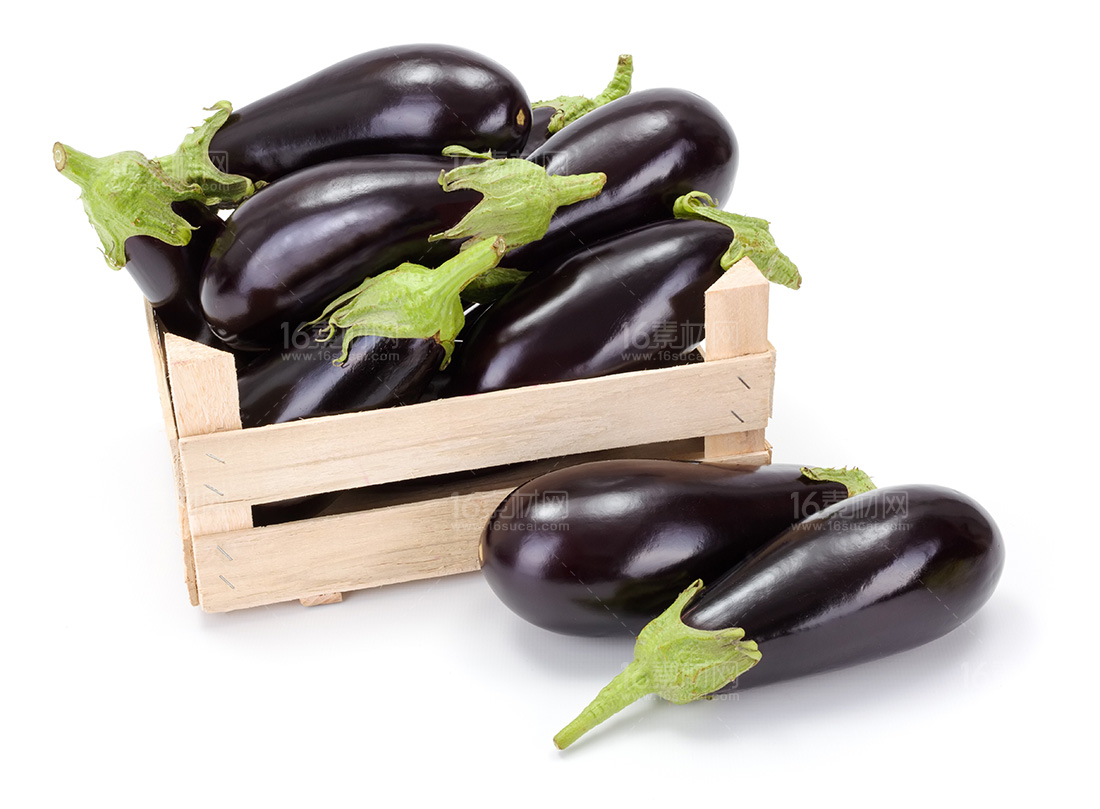fruit_eggplant: (570, 476, 1021, 754), (471, 445, 900, 643), (201, 142, 613, 342), (400, 84, 747, 283), (111, 37, 540, 177)
